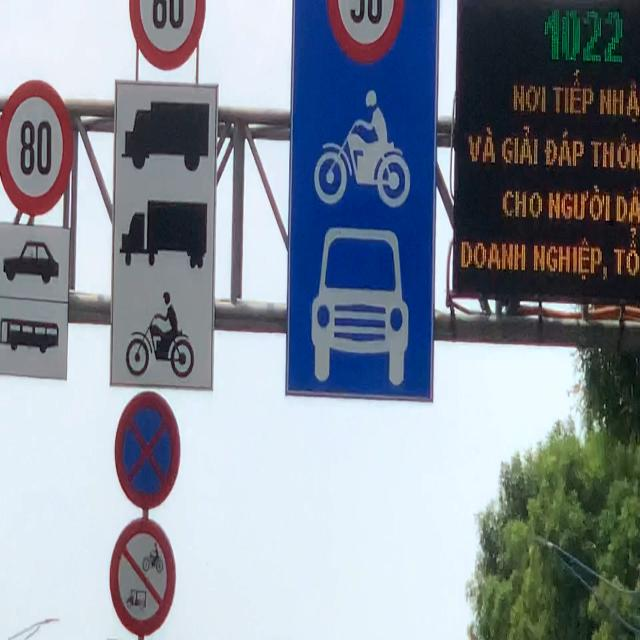P.127: (0, 77, 72, 218)
P.130: (112, 386, 182, 514)
